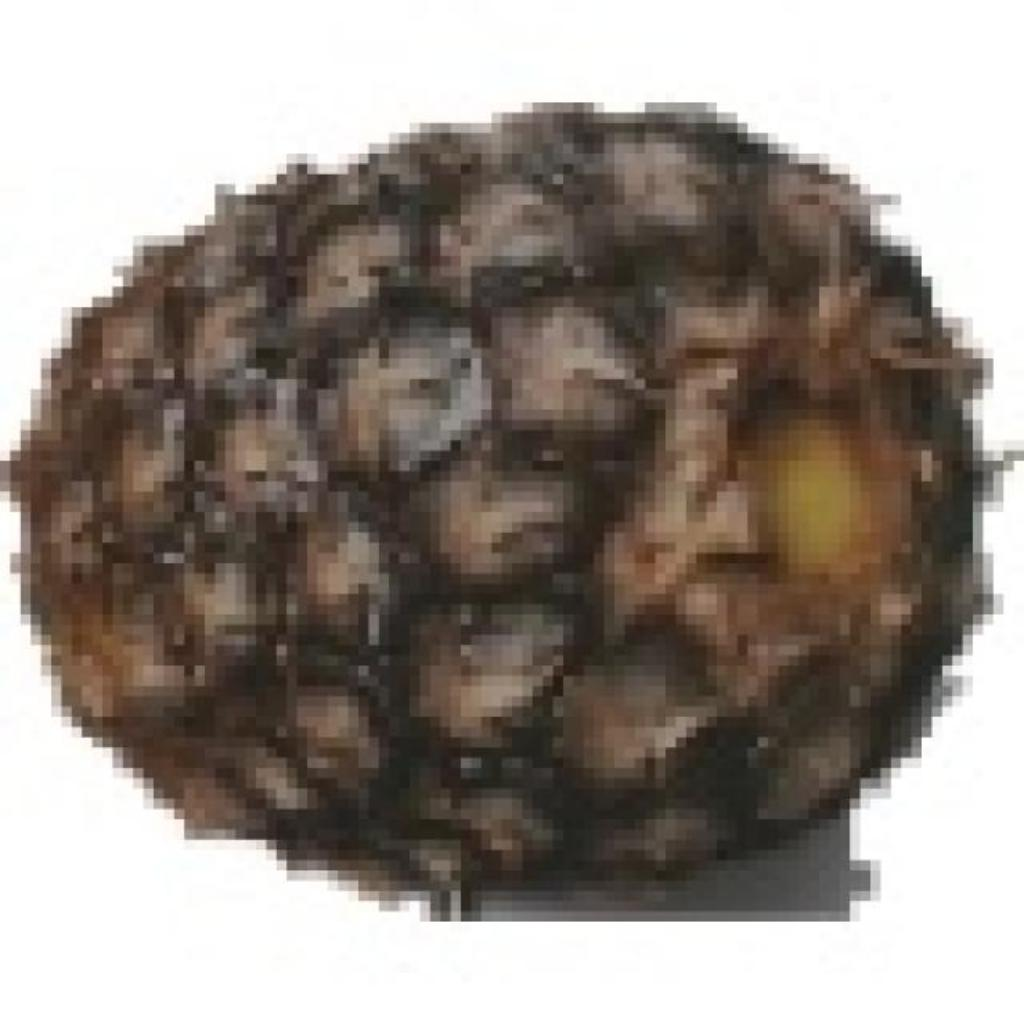pineapple: (10, 92, 963, 891)
